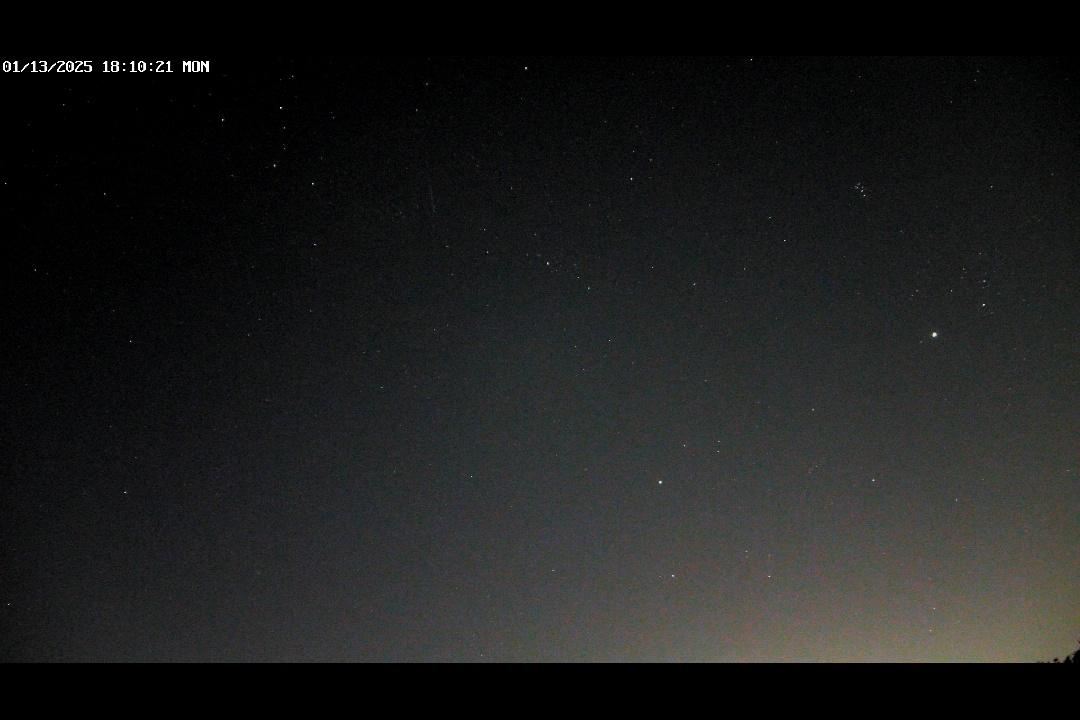Plane: (422, 164, 441, 221)
